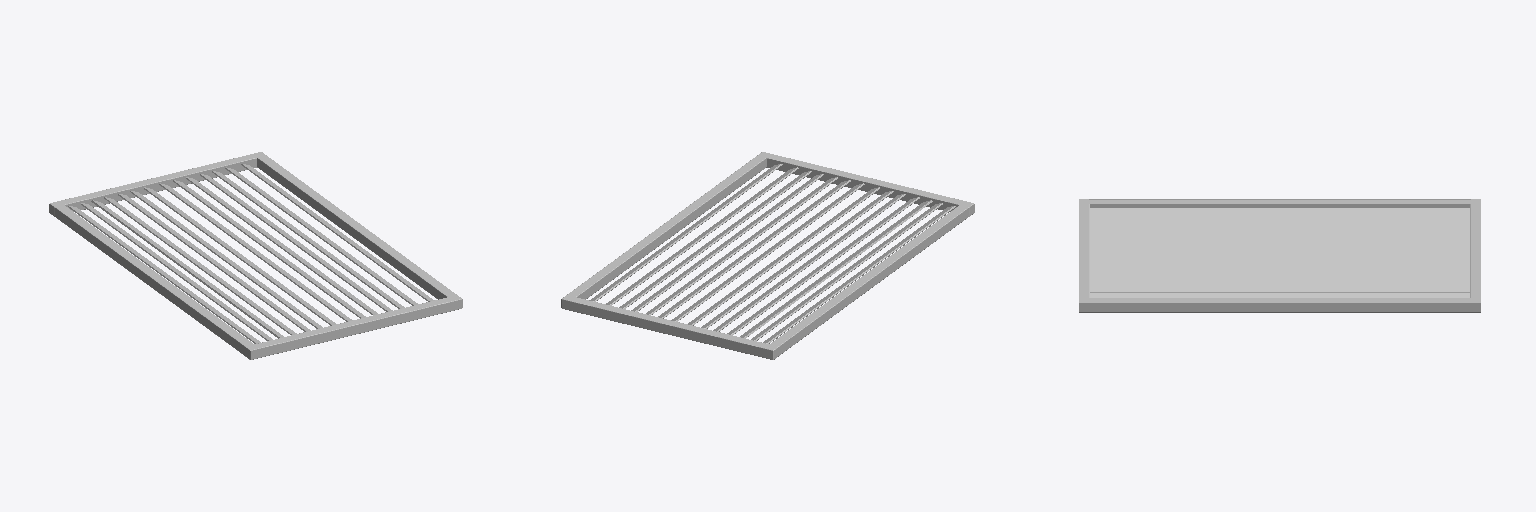
The model's file is ventGate.obj.
3 views of the same model, side by side, from view 1: azimuth 30°, elevation 25°; view 2: azimuth 150°, elevation 25°; view 3: azimuth 270°, elevation 25° (orthographic).
Parts seen in each view (by area): view 1: group1 pCube77, pCube58 group1, group1 pCube60, group1 pCube59, group1 pCube67, group1 pCube71, group1 pCube61, group1 pCube66, group1 pCube69, group1 pCube70, group1 pCube72, group1 pCube74 (+6 smaller); view 2: group1 pCube77, pCube58 group1, group1 pCube59, group1 pCube60, group1 pCube67, group1 pCube71, group1 pCube61, group1 pCube66, group1 pCube69, group1 pCube70, group1 pCube72, group1 pCube74 (+6 smaller); view 3: pCube58 group1, group1 pCube77, group1 pCube71, group1 pCube62, group1 pCube63, group1 pCube65, group1 pCube67, group1 pCube70, group1 pCube61, group1 pCube64, group1 pCube66, group1 pCube68 (+6 smaller).
Part boxes in pixels (left/top/right/bottom): group1 pCube77: left=55, top=205, right=253, bottom=355; pCube58 group1: left=256, top=154, right=458, bottom=299; group1 pCube60: left=245, top=297, right=462, bottom=359; group1 pCube59: left=49, top=152, right=265, bottom=216; group1 pCube67: left=91, top=200, right=283, bottom=338; group1 pCube71: left=144, top=187, right=335, bottom=325; group1 pCube61: left=241, top=164, right=434, bottom=301; group1 pCube66: left=173, top=180, right=365, bottom=318; group1 pCube69: left=118, top=194, right=310, bottom=331; group1 pCube70: left=130, top=191, right=322, bottom=328; group1 pCube72: left=159, top=183, right=352, bottom=321; group1 pCube74: left=68, top=206, right=260, bottom=343; group1 pCube77: left=770, top=203, right=968, bottom=355; pCube58 group1: left=565, top=155, right=766, bottom=299; group1 pCube59: left=561, top=297, right=778, bottom=359; group1 pCube60: left=758, top=152, right=974, bottom=216; group1 pCube67: left=740, top=200, right=932, bottom=338; group1 pCube71: left=688, top=187, right=879, bottom=325; group1 pCube61: left=589, top=164, right=782, bottom=301; group1 pCube66: left=658, top=180, right=850, bottom=318; group1 pCube69: left=713, top=194, right=905, bottom=331; group1 pCube70: left=701, top=191, right=893, bottom=328; group1 pCube72: left=671, top=183, right=864, bottom=321; group1 pCube74: left=763, top=206, right=955, bottom=343; pCube58 group1: left=1089, top=298, right=1470, bottom=312; group1 pCube77: left=1089, top=199, right=1470, bottom=207; group1 pCube71: left=1090, top=245, right=1469, bottom=252; group1 pCube62: left=1090, top=285, right=1469, bottom=291; group1 pCube63: left=1090, top=278, right=1469, bottom=284; group1 pCube65: left=1090, top=265, right=1469, bottom=271; group1 pCube67: left=1090, top=219, right=1469, bottom=225; group1 pCube70: left=1090, top=238, right=1469, bottom=244; group1 pCube61: left=1090, top=292, right=1469, bottom=297; group1 pCube64: left=1090, top=272, right=1469, bottom=277; group1 pCube66: left=1090, top=259, right=1469, bottom=264; group1 pCube68: left=1090, top=226, right=1469, bottom=231.
Bounding box in the file's own units: 0.3936 × 0.0177 × 0.6465.